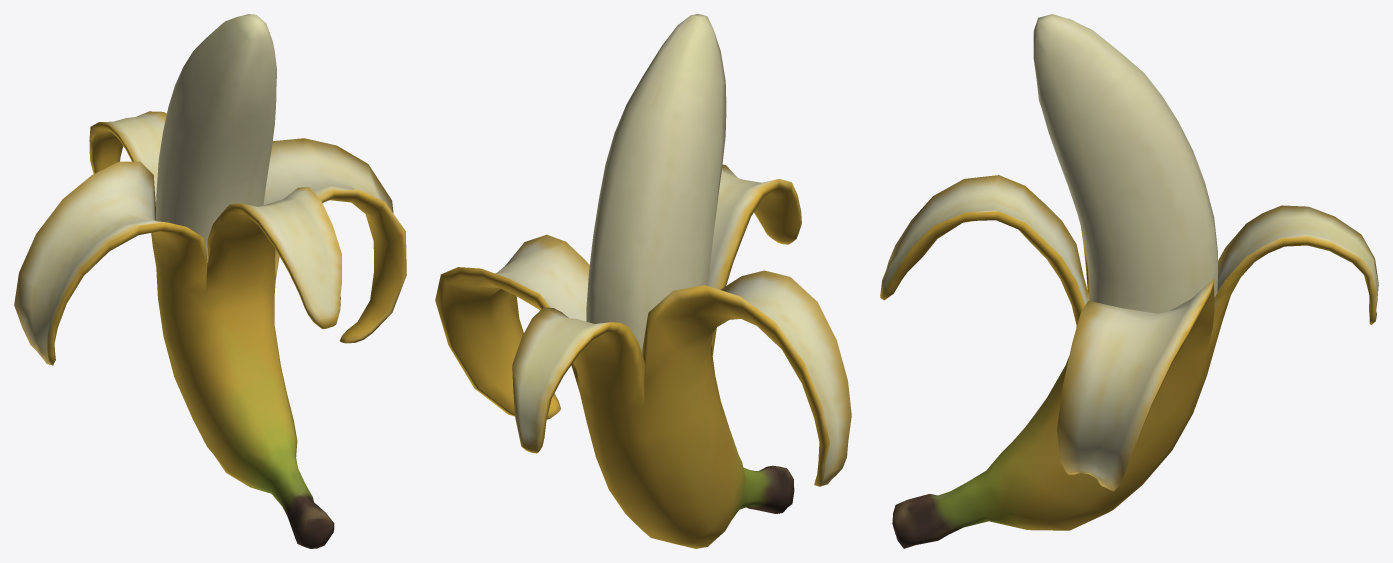
Rendered from BananaOpen.fbx.
The picture shows the model from 3 angles, left to right: view 1: azimuth 30°, elevation 25°; view 2: azimuth 150°, elevation 25°; view 3: azimuth 270°, elevation 25°; orthographic projection. The views are drawn at different scales.
Visible parts, largest first — view 1: BananaOpen_LOD0; view 2: BananaOpen_LOD0; view 3: BananaOpen_LOD0.
Part boxes in pixels (x1,y1,x2,y2): BananaOpen_LOD0: [14, 14, 406, 548]; BananaOpen_LOD0: [435, 14, 851, 548]; BananaOpen_LOD0: [880, 14, 1378, 548].
Size of what is drawn, in the model's own units: 0.1261 by 0.16 by 0.1361.
